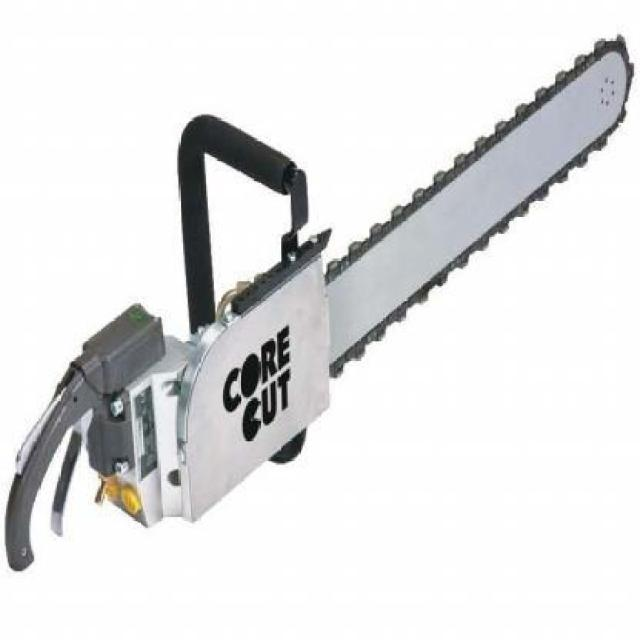Chainsaw: (0, 32, 634, 570)
